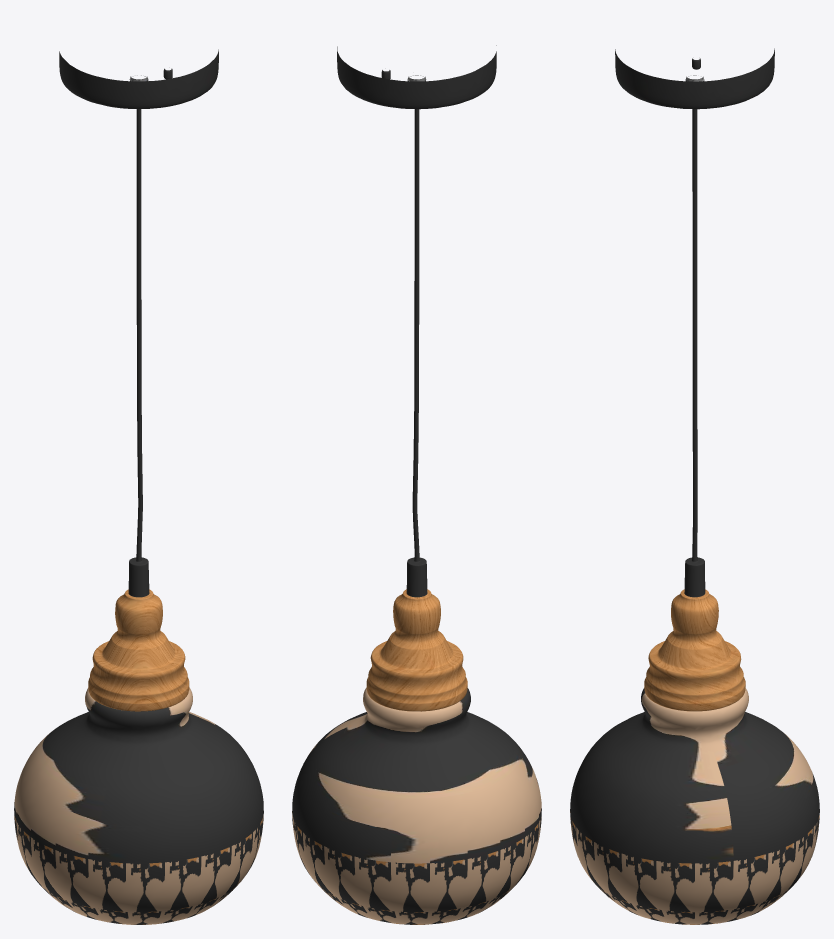
Rendered from abo-B071VR5JSP.glb.
3 views of the same model, side by side, from view 1: azimuth 30°, elevation 25°; view 2: azimuth 150°, elevation 25°; view 3: azimuth 270°, elevation 25° (orthographic).
Bounding box in the file's own units: 0.43 × 1.61 × 0.43.
1 material, 1 textured.
